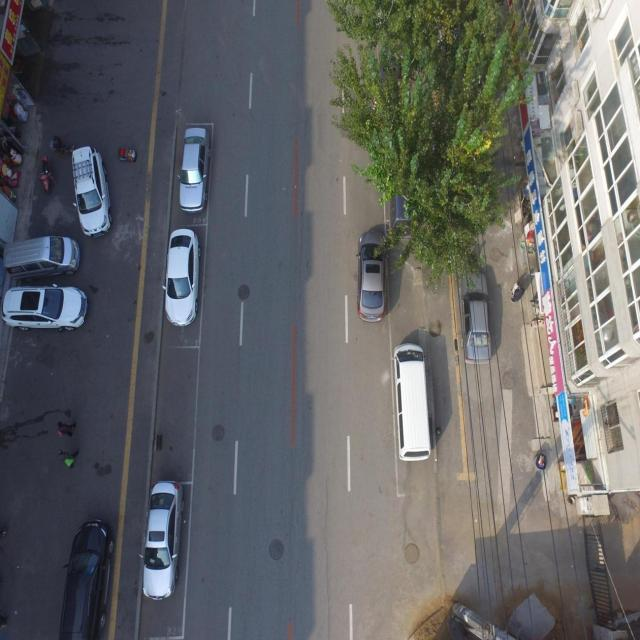p3rson: (56, 448, 79, 468), (56, 419, 77, 436), (510, 284, 524, 302), (510, 280, 519, 295)
